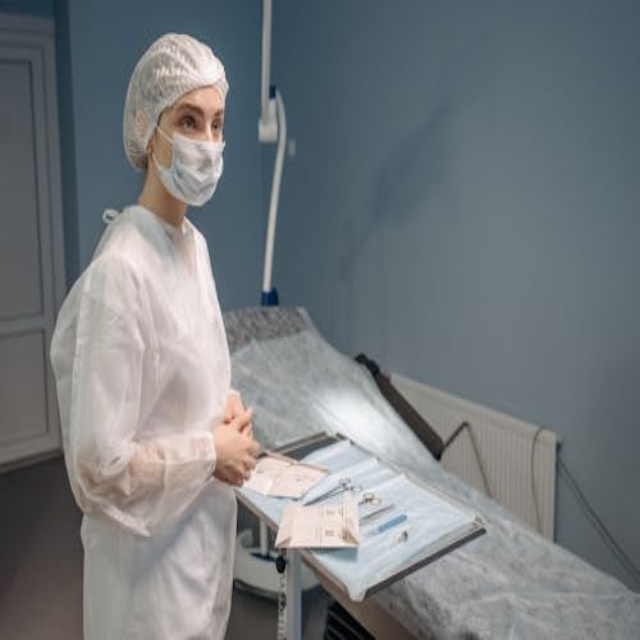Mascara: (151, 121, 225, 206)
Sin_gafas: (174, 103, 228, 138)
Sin_guantes: (211, 411, 261, 487)
